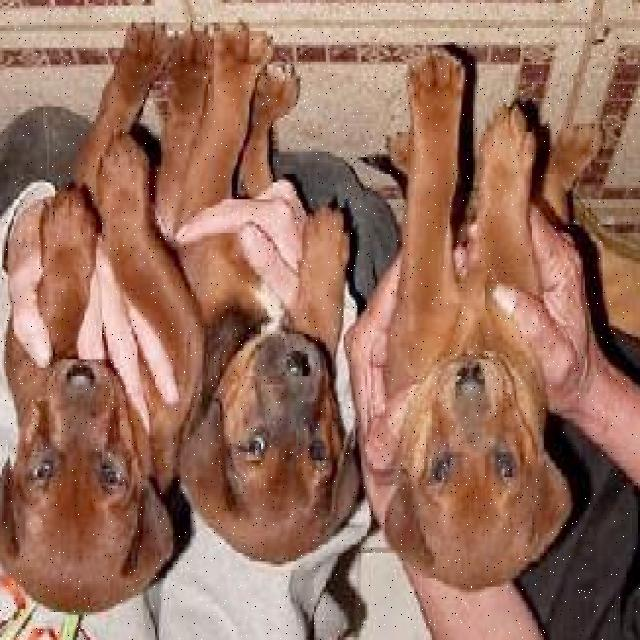Dog: (0, 353, 181, 614), (383, 346, 570, 590), (197, 318, 370, 560)
